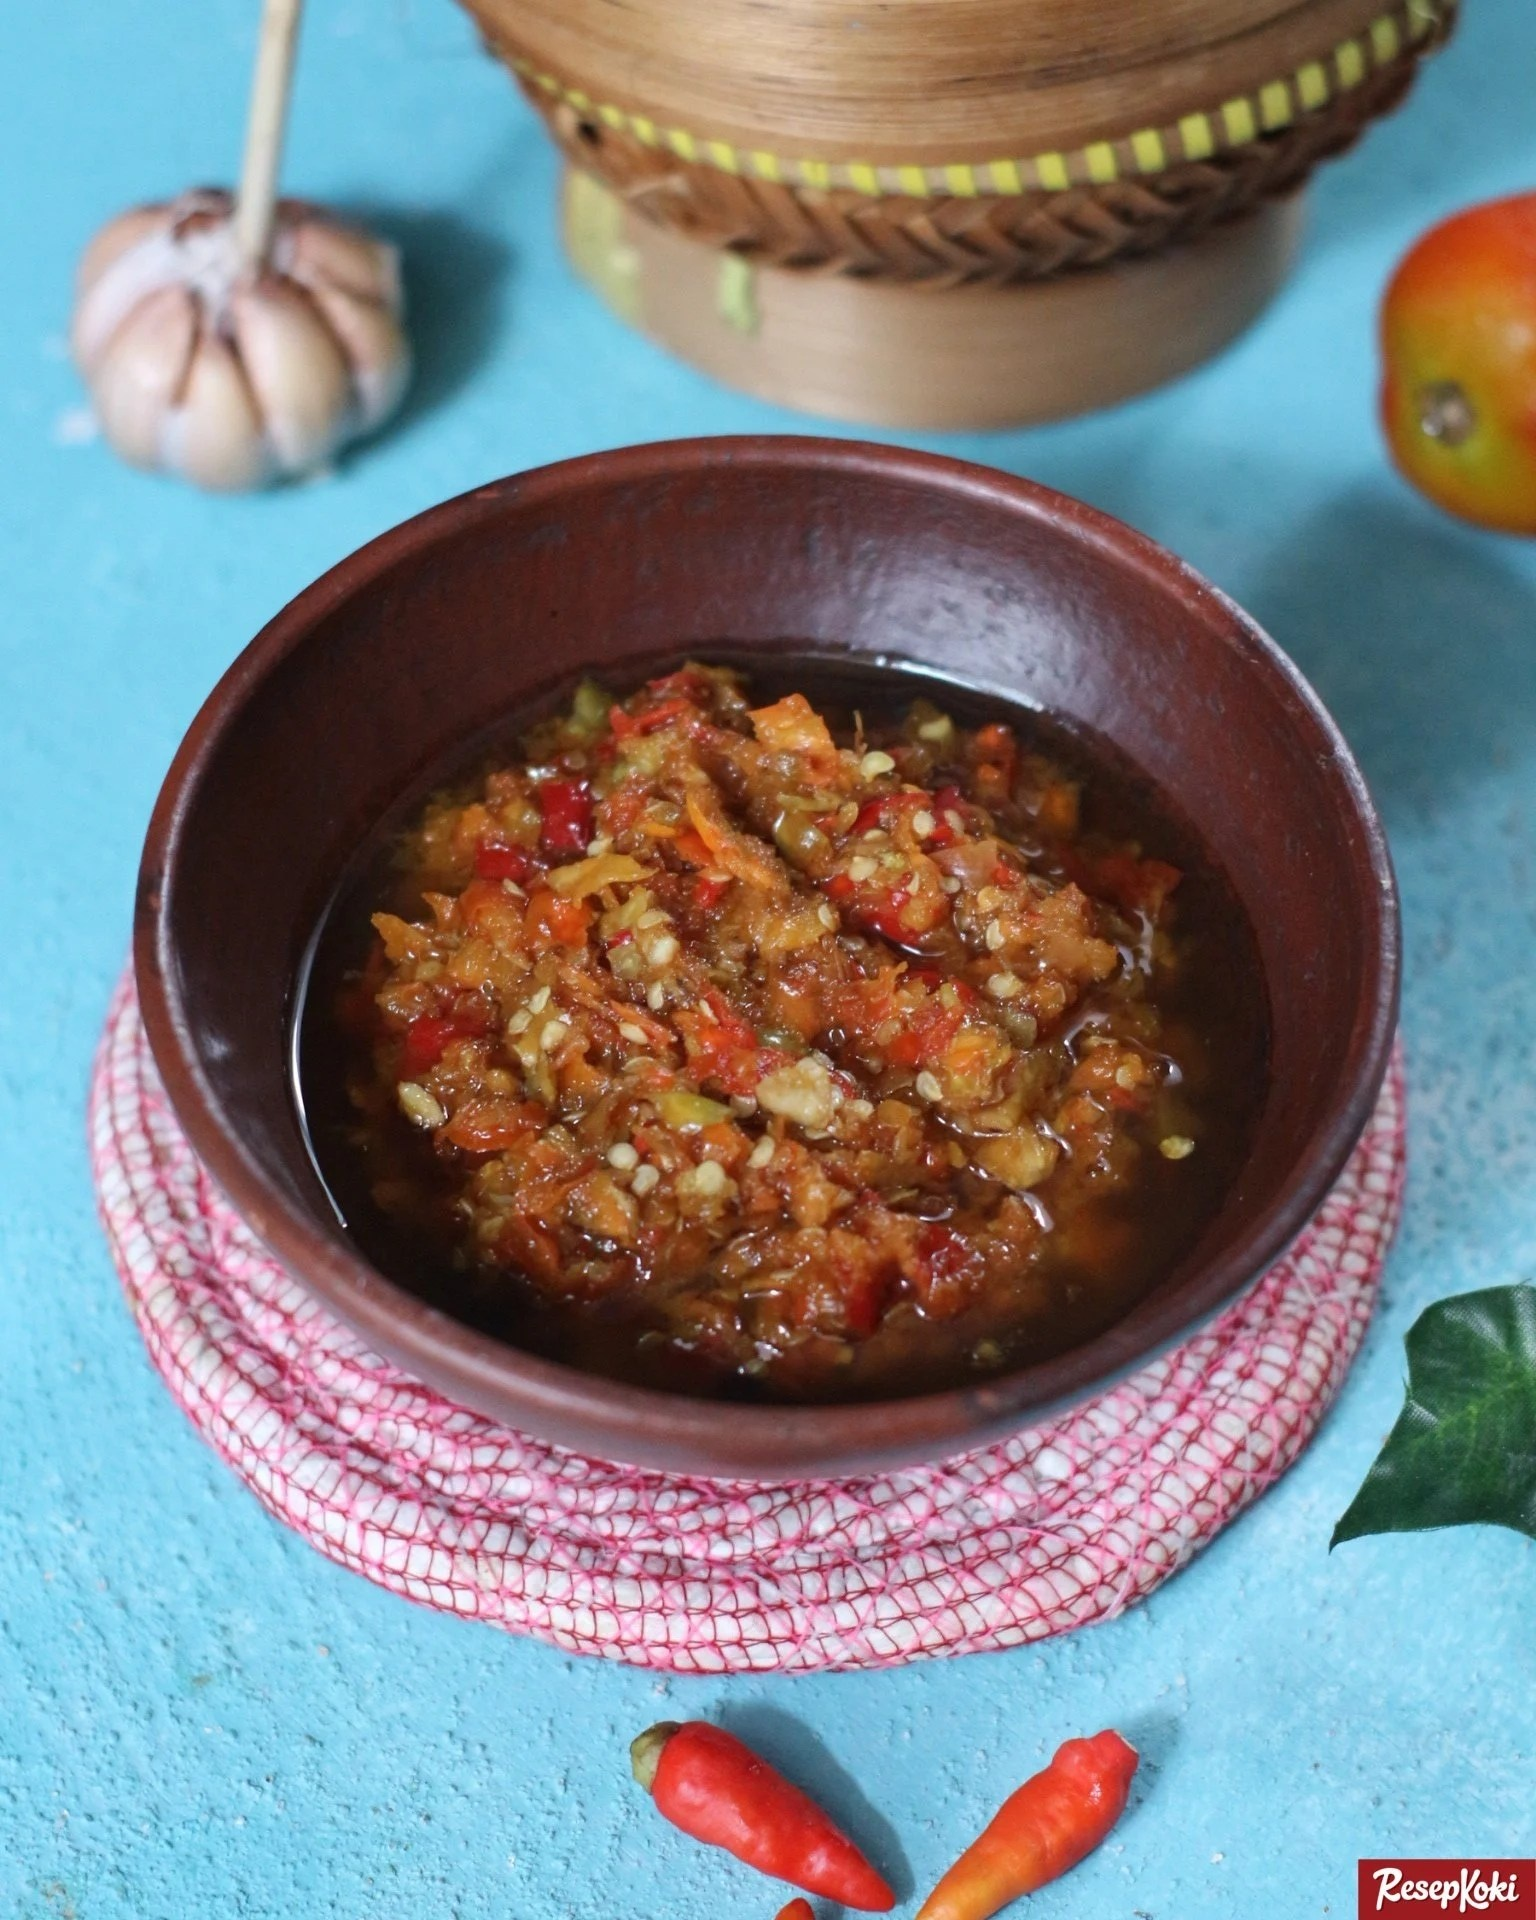sambal: (350, 650, 1199, 1371)
